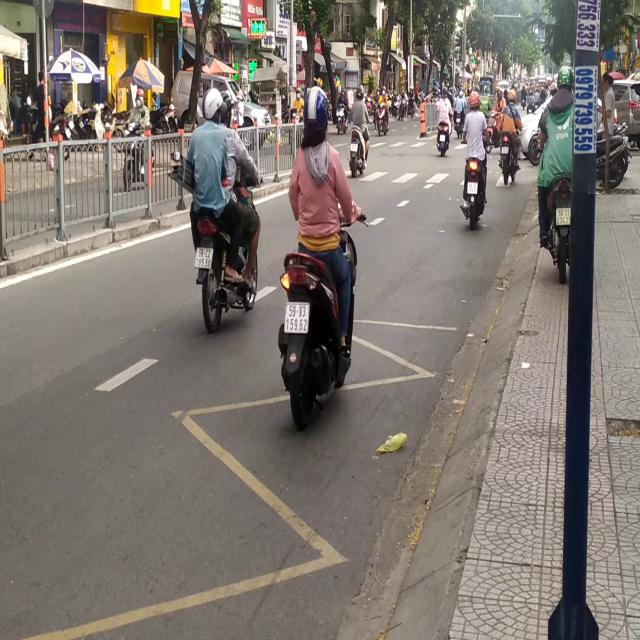bien_trang: (284, 296, 312, 338), (554, 205, 576, 230), (196, 243, 214, 270)
